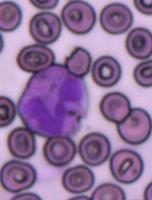E: (17, 65, 89, 138)
